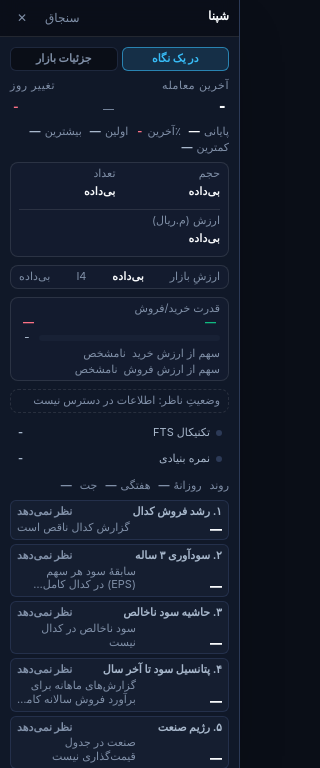
Test case: سایدبار بازرسی نماد › با انتخاب نماد می لغزد داخل و هدر نشان می دهد
This screenshot has width=320, height=768.
Check: the text "شپنا" is shown, box [208,8,229,24]
Click the button "جزئیات بازار". click: (64, 59)
box: [10,47,118,71]
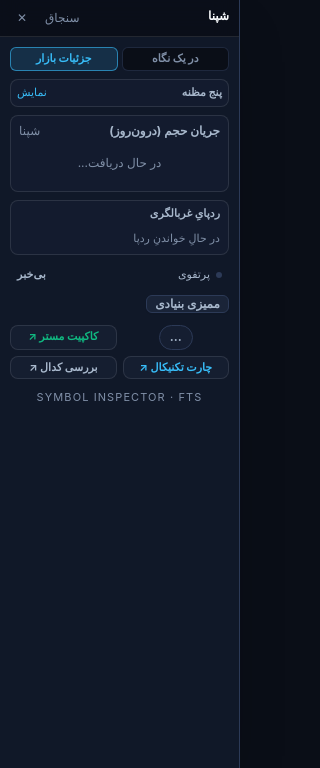
Check: the link "چارت تکنیکال ↗" is shown, box [122,356,229,379]
Check: the link "بررسی کدال ↗" is shown, box [10,356,116,379]
